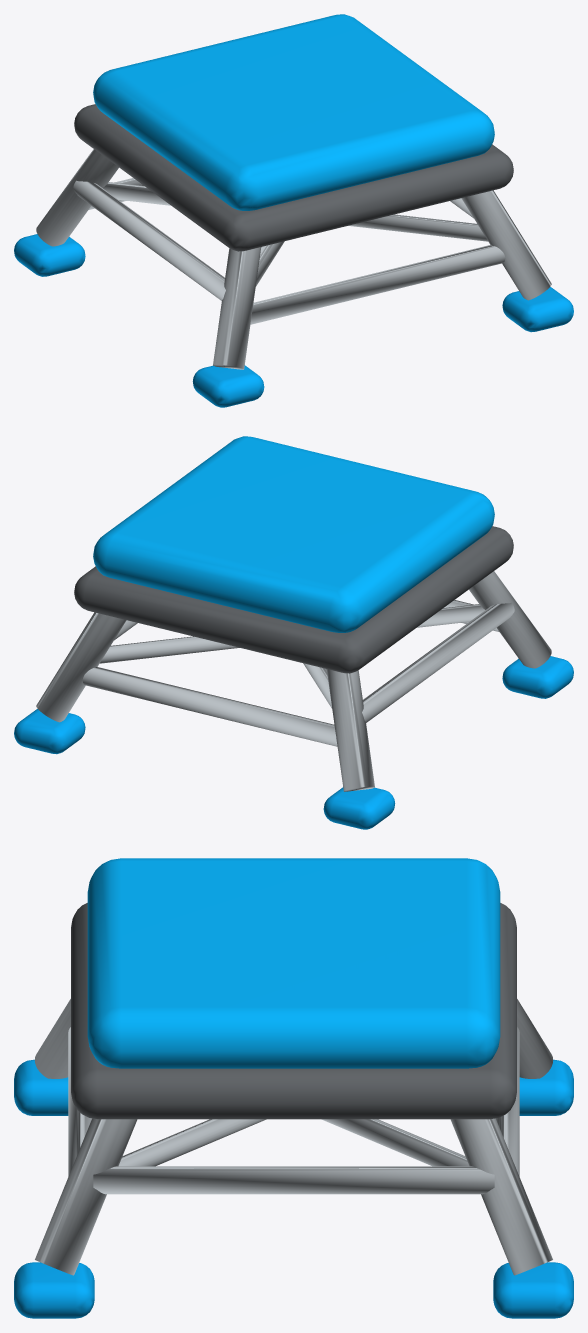
The model's file is Hocker_3D.glb.
3 renders of one model, top to bottom at view 1: azimuth 30°, elevation 25°; view 2: azimuth 150°, elevation 25°; view 3: azimuth 270°, elevation 25°, orthographic. The views are drawn at different scales.
Parts seen in each view (by area): view 1: Hocker_3D__web_bright_blue_padded_vinyl_stool_cushion, Hocker_3D__web_satin_grey_metal_stool_frame, Hocker_3D__web_dark_grey_under_seat_support_frame, Hocker_3D__web_blue_rubber_stool_foot_caps; view 2: Hocker_3D__web_bright_blue_padded_vinyl_stool_cushion, Hocker_3D__web_satin_grey_metal_stool_frame, Hocker_3D__web_dark_grey_under_seat_support_frame, Hocker_3D__web_blue_rubber_stool_foot_caps; view 3: Hocker_3D__web_bright_blue_padded_vinyl_stool_cushion, Hocker_3D__web_satin_grey_metal_stool_frame, Hocker_3D__web_dark_grey_under_seat_support_frame, Hocker_3D__web_blue_rubber_stool_foot_caps.
Boxes of the visible parts, <box> form: Hocker_3D__web_bright_blue_padded_vinyl_stool_cushion: <box>93,14,494,210</box>; Hocker_3D__web_satin_grey_metal_stool_frame: <box>36,149,551,369</box>; Hocker_3D__web_dark_grey_under_seat_support_frame: <box>74,104,513,251</box>; Hocker_3D__web_blue_rubber_stool_foot_caps: <box>14,234,573,407</box>; Hocker_3D__web_bright_blue_padded_vinyl_stool_cushion: <box>93,436,494,632</box>; Hocker_3D__web_satin_grey_metal_stool_frame: <box>36,571,551,791</box>; Hocker_3D__web_dark_grey_under_seat_support_frame: <box>74,526,513,673</box>; Hocker_3D__web_blue_rubber_stool_foot_caps: <box>14,656,573,829</box>; Hocker_3D__web_bright_blue_padded_vinyl_stool_cushion: <box>87,858,500,1068</box>; Hocker_3D__web_satin_grey_metal_stool_frame: <box>34,999,553,1275</box>; Hocker_3D__web_dark_grey_under_seat_support_frame: <box>71,903,516,1119</box>; Hocker_3D__web_blue_rubber_stool_foot_caps: <box>14,1059,573,1318</box>.
Size of the model in its own units: 1 by 0.54 by 1.
